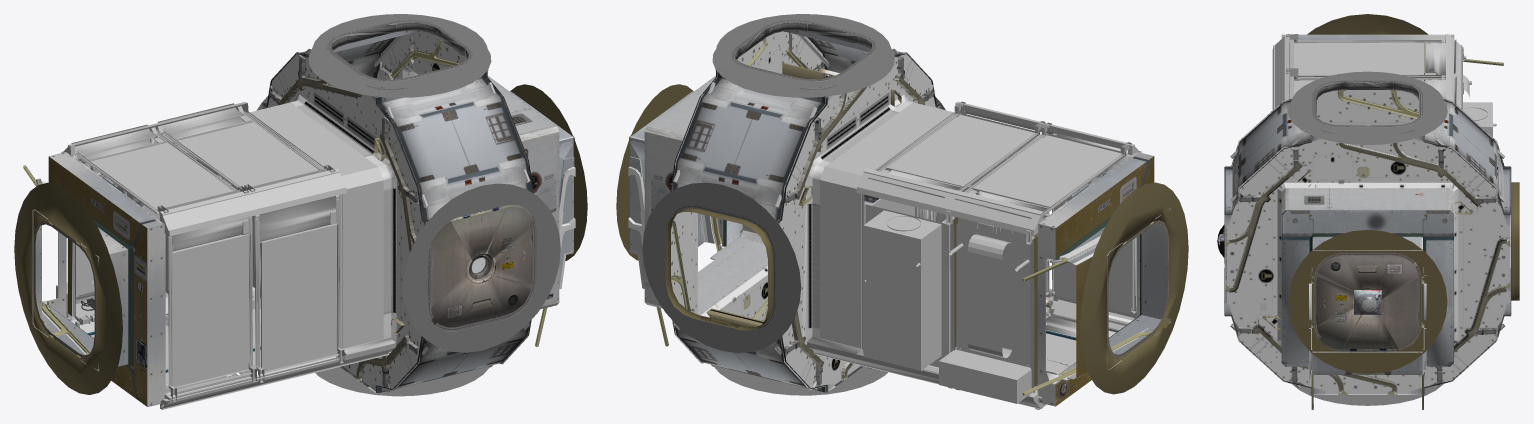
The picture shows the model from 3 angles, left to right: view 1: azimuth 30°, elevation 25°; view 2: azimuth 150°, elevation 25°; view 3: azimuth 270°, elevation 25°; orthographic projection. The views are drawn at different scales.
Parts seen in each view (by area): view 1: Node3_Int__Bulkhead_SBD_Generic_Metals.005, Node3_Int__Bulkhead_SBD_Node3_Int_Rack_02, Node3_Int__Bulkhead_SBD_Generic_Hub.005, Node3_Int__Bulkhead_SBD_Node3_Bulkhead, Node3_Int__Bulkhead_SBD_Node3_Int_Rack_01; view 2: Node3_Int__Bulkhead_SBD_Generic_Metals.005, Node3_Int__Bulkhead_SBD_Generic_Hub.005, Node3_Int__Bulkhead_SBD_Node3_Int_Rack_01, Node3_Int__Bulkhead_SBD_Node3_Int_Rack_02, Node3_Int__Bulkhead_SBD_Node3_Bulkhead; view 3: Node3_Int__Bulkhead_SBD_Generic_Hub.005, Node3_Int__Bulkhead_SBD_Generic_Metals.005, Node3_Int__Bulkhead_SBD_Node3_Bulkhead, Node3_Int__Bulkhead_SBD_Node3_Int_Rack_02, Node3_Int__Bulkhead_SBD_Node3_Int_Rack_01.
Boxes of the visible parts, <box> form: Node3_Int__Bulkhead_SBD_Generic_Metals.005: <box>14,14,587,401</box>; Node3_Int__Bulkhead_SBD_Node3_Int_Rack_02: <box>56,103,341,407</box>; Node3_Int__Bulkhead_SBD_Generic_Hub.005: <box>262,30,537,393</box>; Node3_Int__Bulkhead_SBD_Node3_Bulkhead: <box>32,70,575,406</box>; Node3_Int__Bulkhead_SBD_Node3_Int_Rack_01: <box>61,102,396,409</box>; Node3_Int__Bulkhead_SBD_Generic_Metals.005: <box>616,14,1188,409</box>; Node3_Int__Bulkhead_SBD_Generic_Hub.005: <box>666,30,940,392</box>; Node3_Int__Bulkhead_SBD_Node3_Int_Rack_01: <box>806,101,1141,409</box>; Node3_Int__Bulkhead_SBD_Node3_Int_Rack_02: <box>861,110,1135,403</box>; Node3_Int__Bulkhead_SBD_Node3_Bulkhead: <box>628,76,1171,406</box>; Node3_Int__Bulkhead_SBD_Generic_Hub.005: <box>1224,90,1511,394</box>; Node3_Int__Bulkhead_SBD_Generic_Metals.005: <box>1224,14,1519,409</box>; Node3_Int__Bulkhead_SBD_Node3_Bulkhead: <box>1217,34,1466,379</box>; Node3_Int__Bulkhead_SBD_Node3_Int_Rack_02: <box>1294,39,1469,104</box>; Node3_Int__Bulkhead_SBD_Node3_Int_Rack_01: <box>1272,34,1496,136</box>.
Size of the model in its own units: 5.88 by 3.56 by 3.56.
